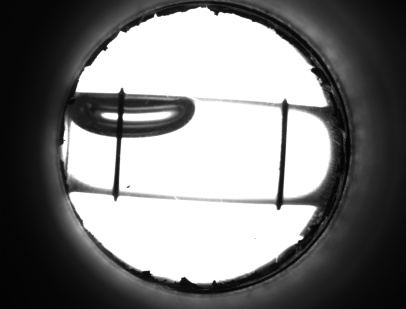line: (272, 122, 292, 190), (108, 145, 126, 181)
